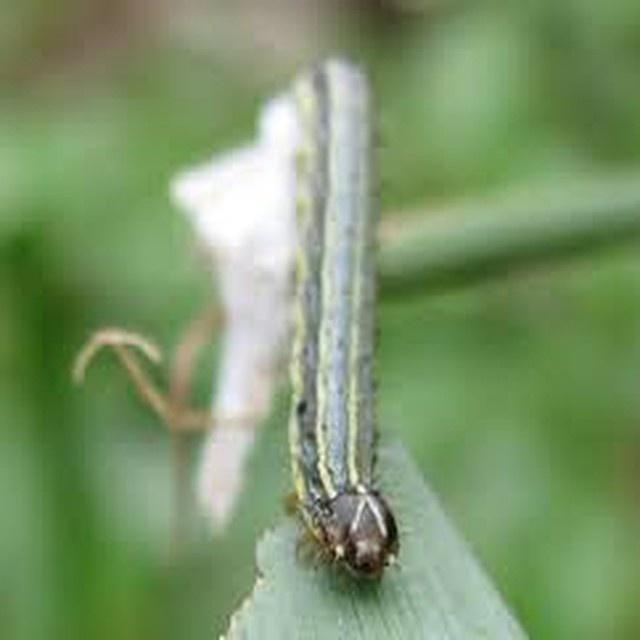gusano_cogollero: (292, 55, 395, 570)
